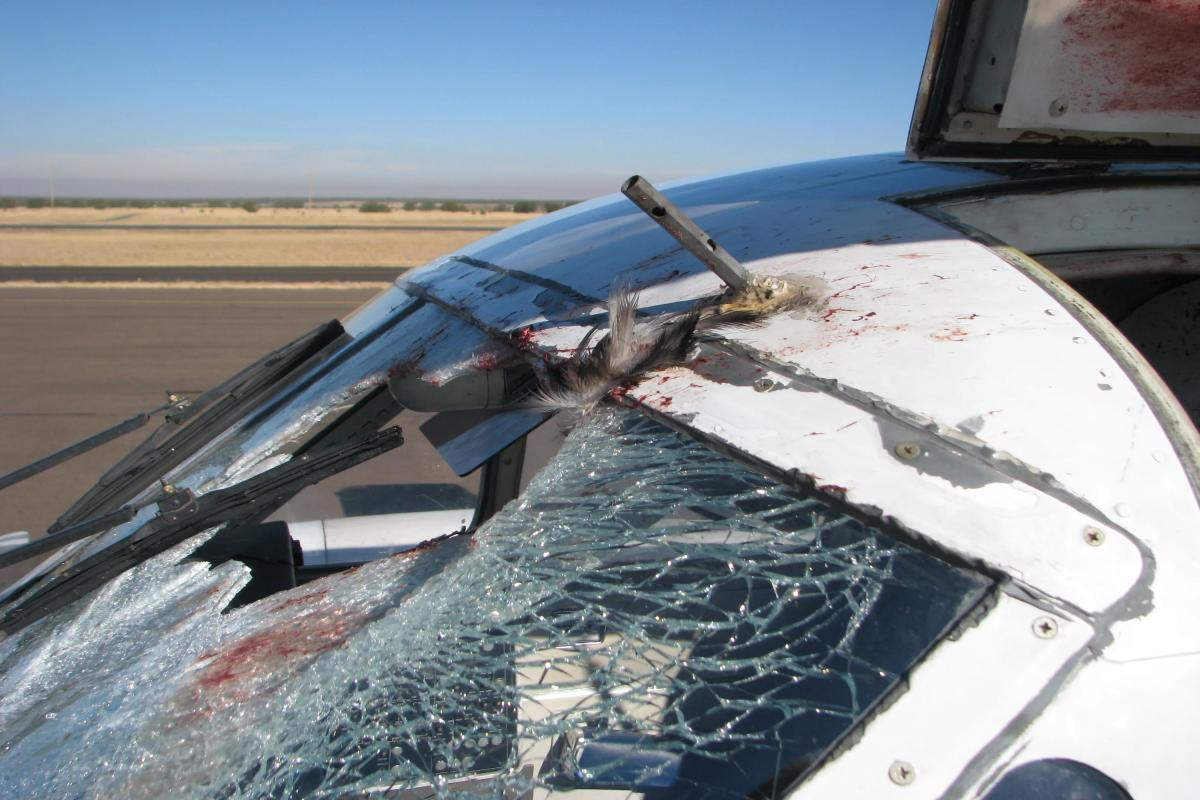Fuselage_damage: (1, 299, 1000, 799), (547, 169, 805, 392), (1071, 5, 1196, 116)
